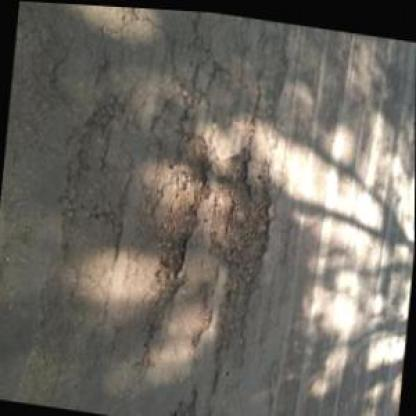pothole: (143, 123, 213, 304), (201, 140, 277, 300)
